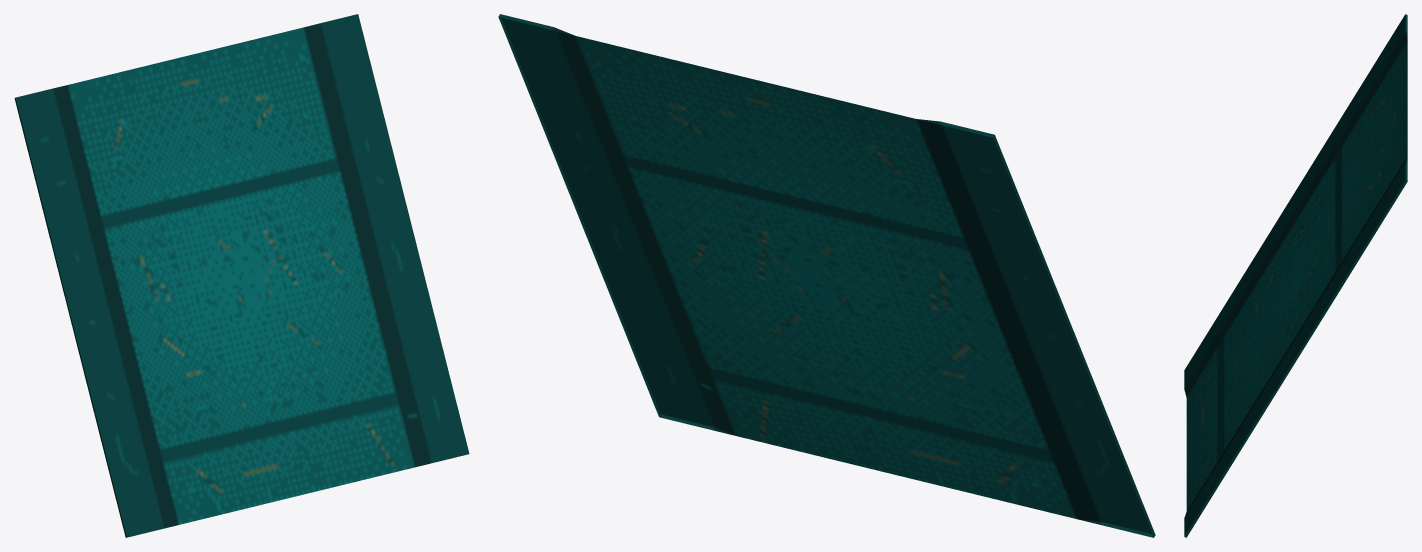
The model's file is med1_9d_ofs144_90.fbx.
3 renders of one model, left to right at view 1: azimuth 30°, elevation 25°; view 2: azimuth 150°, elevation 25°; view 3: azimuth 270°, elevation 25°, orthographic. The views are drawn at different scales.
Parts seen in each view (by area): view 1: med1_9d_mesh_ofs144_90; view 2: med1_9d_mesh_ofs144_90; view 3: med1_9d_mesh_ofs144_90.
Part boxes in pixels (<box>): med1_9d_mesh_ofs144_90: <box>14,14,469,537</box>; med1_9d_mesh_ofs144_90: <box>498,14,1155,537</box>; med1_9d_mesh_ofs144_90: <box>1184,14,1407,537</box>.
Size of the model in its own units: 256 by 257 by 146.
